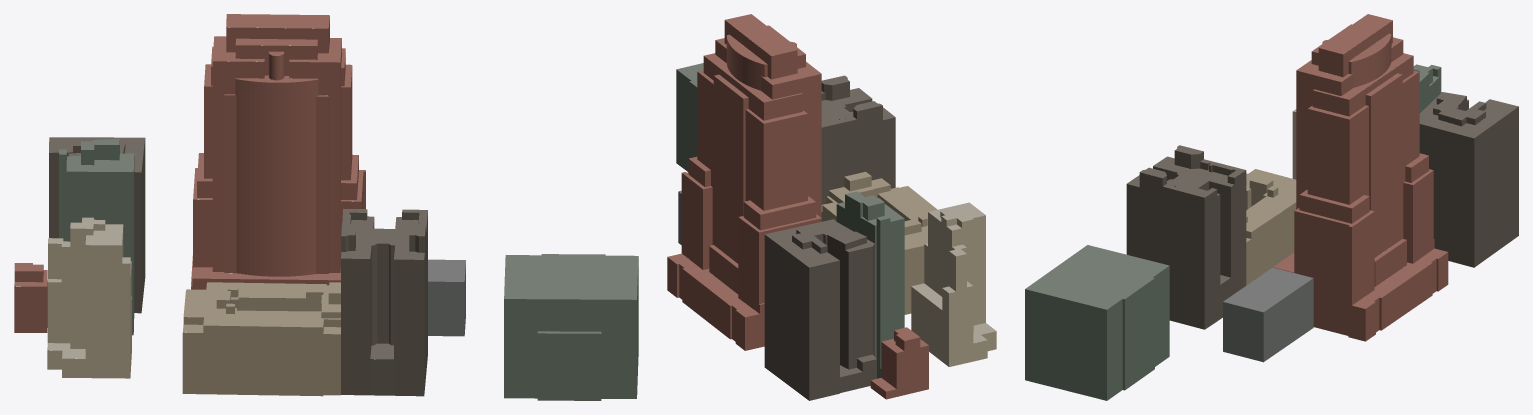
The model's file is tile--4_9.glb.
3 views of the same model, side by side, from view 1: azimuth 30°, elevation 25°; view 2: azimuth 150°, elevation 25°; view 3: azimuth 270°, elevation 25° (orthographic). The views are drawn at different scales.
Visible parts, largest first — view 1: wall, roof; view 2: wall, roof; view 3: wall, roof.
Boxes of the visible parts, x1,y1,x2,y2 form: wall: (14, 18, 638, 400); roof: (14, 14, 638, 359); wall: (667, 20, 996, 400); roof: (667, 14, 996, 391); wall: (1025, 20, 1518, 400); roof: (1025, 14, 1518, 312).
Size of the model in its own units: 235 by 142 by 238.
